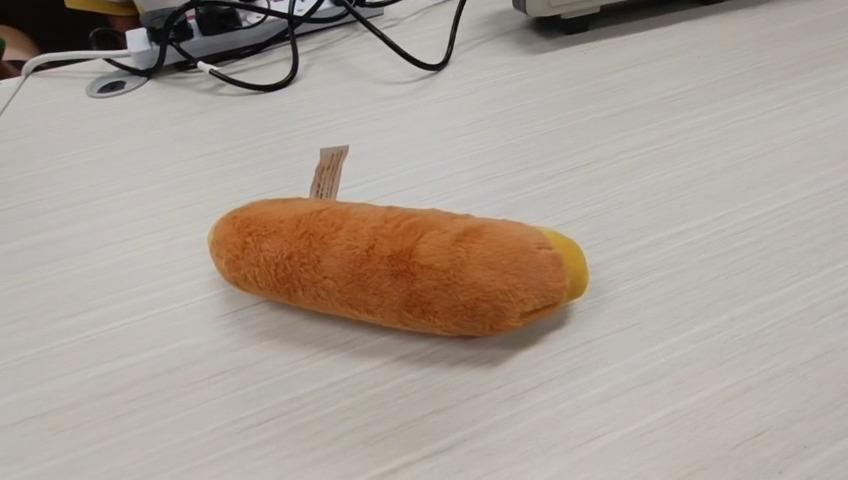hotdog: (206, 142, 590, 338)
